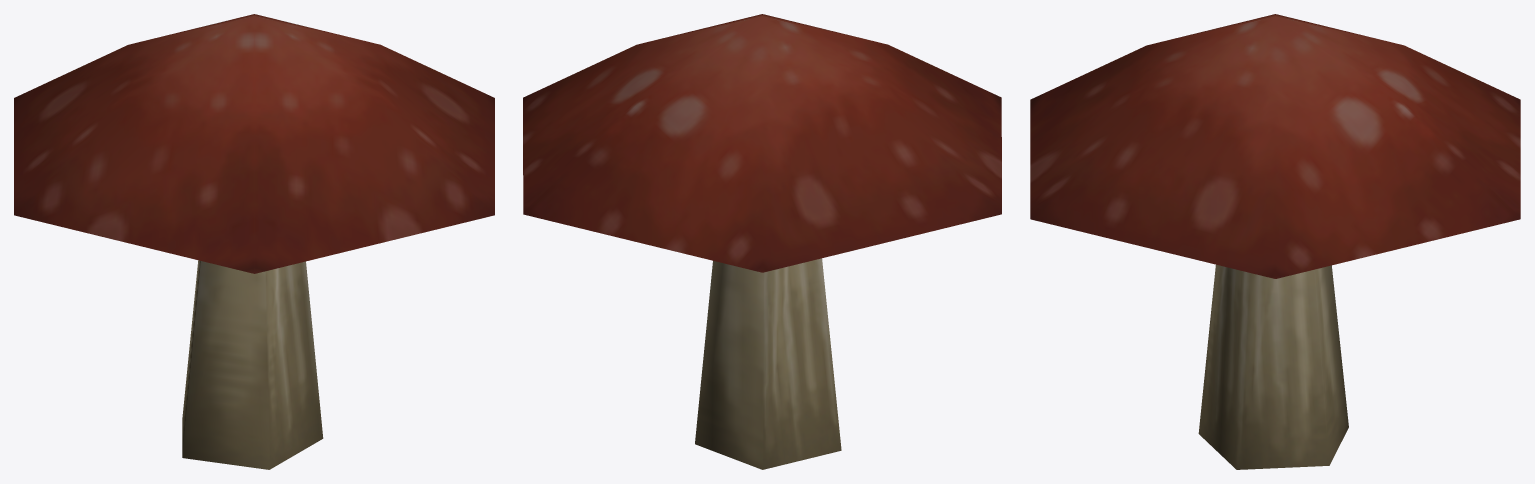
Rendered from Mushroom_01.fbx.
3 views of the same model, side by side, from view 1: azimuth 30°, elevation 25°; view 2: azimuth 150°, elevation 25°; view 3: azimuth 270°, elevation 25° (orthographic). The views are drawn at different scales.
Visible parts, largest first — view 1: Mushroom_01; view 2: Mushroom_01; view 3: Mushroom_01.
Part boxes in pixels (box(x1,y1,x2,y2)): Mushroom_01: box(14, 14, 494, 469); Mushroom_01: box(523, 14, 1001, 469); Mushroom_01: box(1030, 14, 1520, 469).
Bounding box in the file's own units: 0.9947 × 0.8297 × 0.8616.
1 material, 1 textured.
